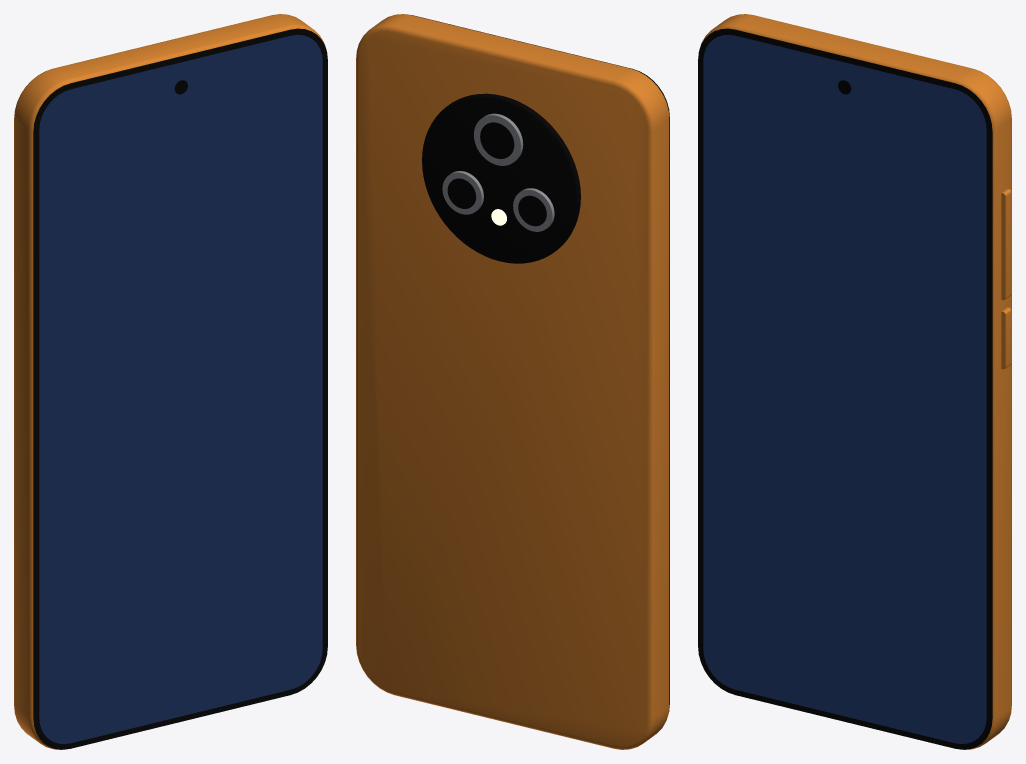
File: pulse-x-pro.glb
The picture shows the model from 3 angles, left to right: view 1: azimuth 30°, elevation 25°; view 2: azimuth 150°, elevation 25°; view 3: azimuth 330°, elevation 25°; orthographic projection.
Visible parts, largest first — view 1: pulse-x-pro; view 2: pulse-x-pro; view 3: pulse-x-pro.
Boxes of the visible parts, x1,y1,x2,y2 form: pulse-x-pro: (14, 14, 327, 749); pulse-x-pro: (356, 14, 669, 749); pulse-x-pro: (698, 14, 1011, 749).
Size of the model in its own units: 0.0771 by 0.163 by 0.0116.
